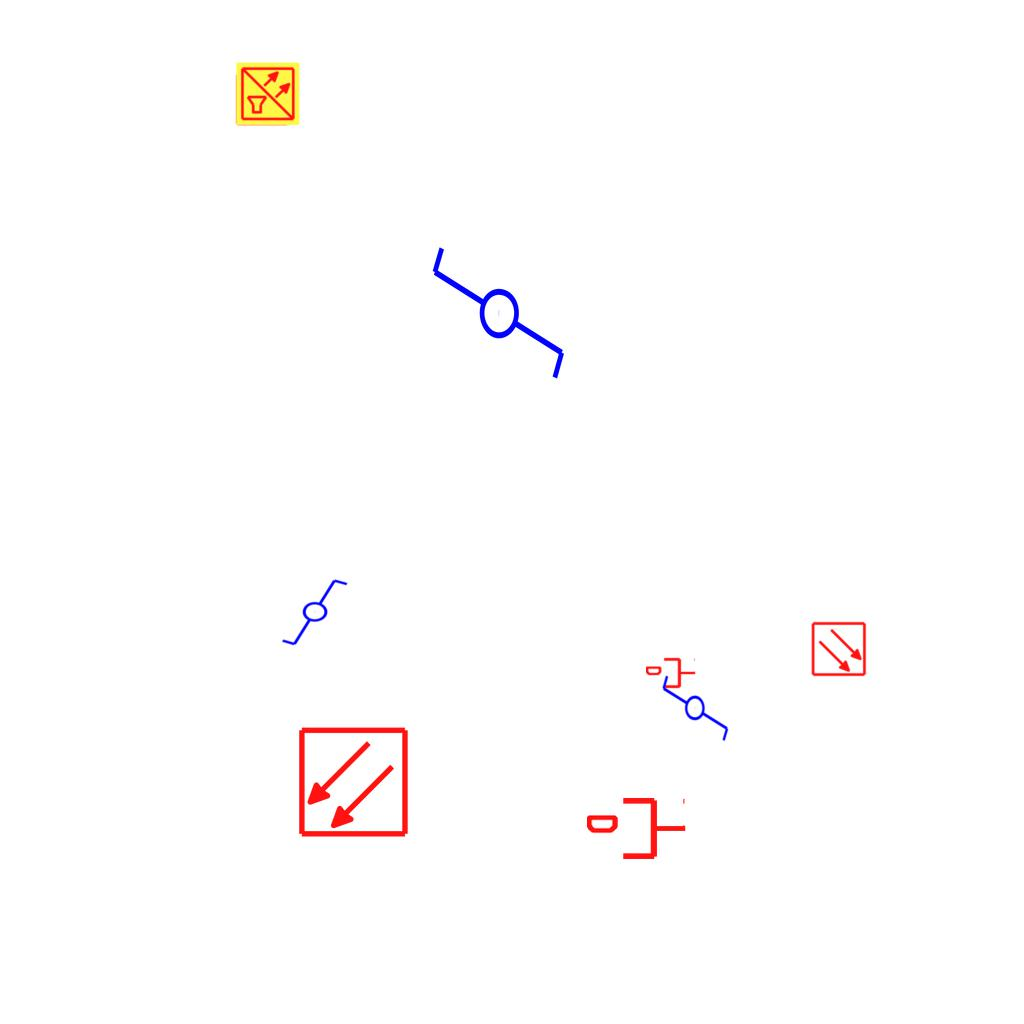Datenanschluss_einfach: (587, 794, 687, 863), (646, 656, 696, 690)
OKW_Multisensormelder_(Kombination_optischer_Rauch-Kahlenmonoxid_Waerme-Melder): (235, 61, 301, 127)
RMO_Rauchmelder_optischer: (297, 726, 410, 839), (811, 621, 867, 677)
Wechselschalter: (425, 243, 569, 400), (280, 577, 358, 649), (660, 665, 732, 743)
